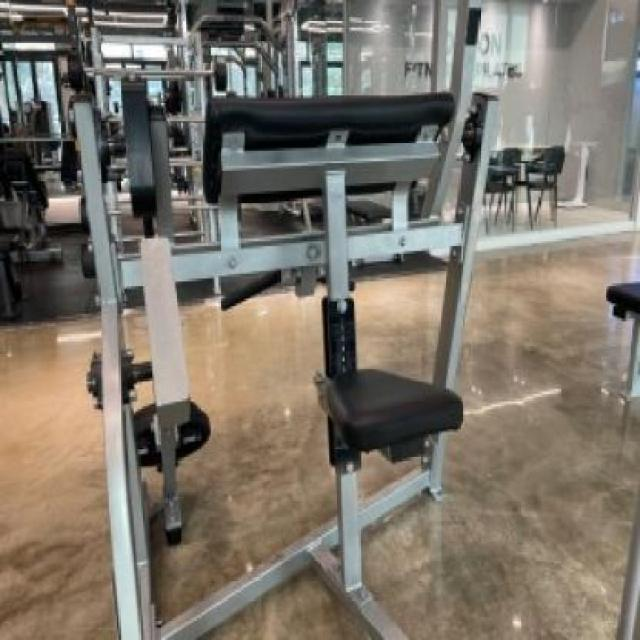arm curl machine: (71, 94, 497, 640)
